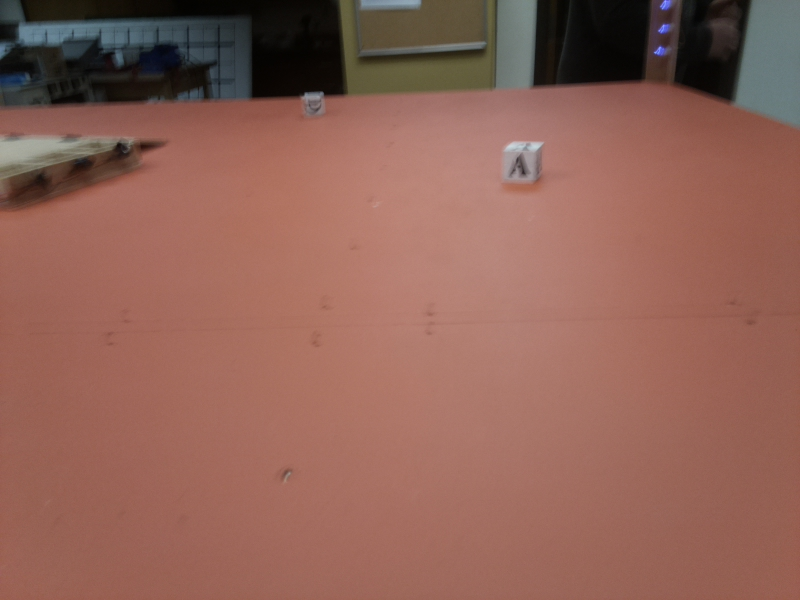blockA: (495, 138, 546, 190)
blockD: (300, 91, 326, 122)
corner: (643, 1, 681, 89)
side: (2, 136, 139, 215)
slope: (137, 133, 172, 147)
